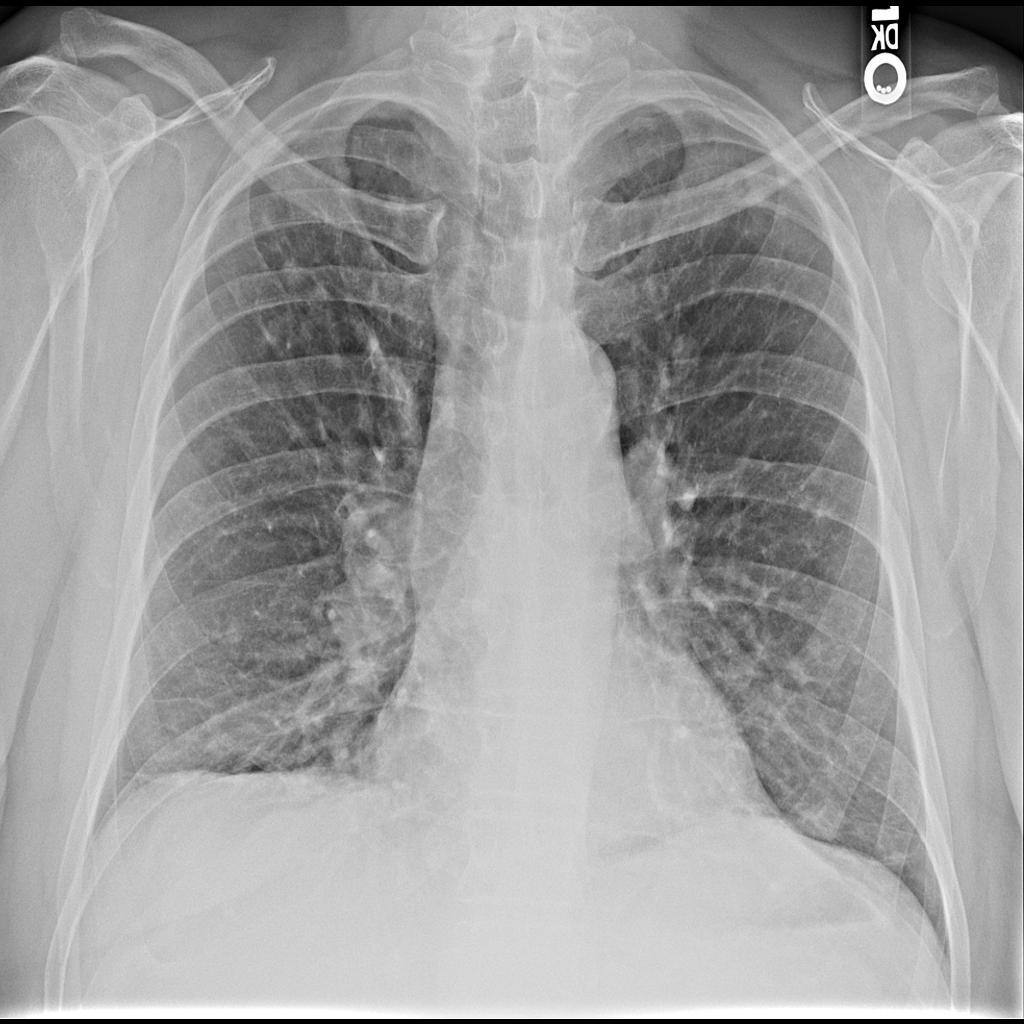Nodule: (278, 254, 309, 297)
